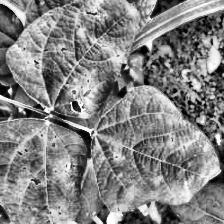ALS: (8, 0, 133, 117), (97, 87, 209, 211), (0, 129, 83, 224)
